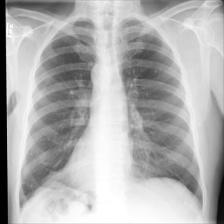normal: (17, 13, 206, 211)
